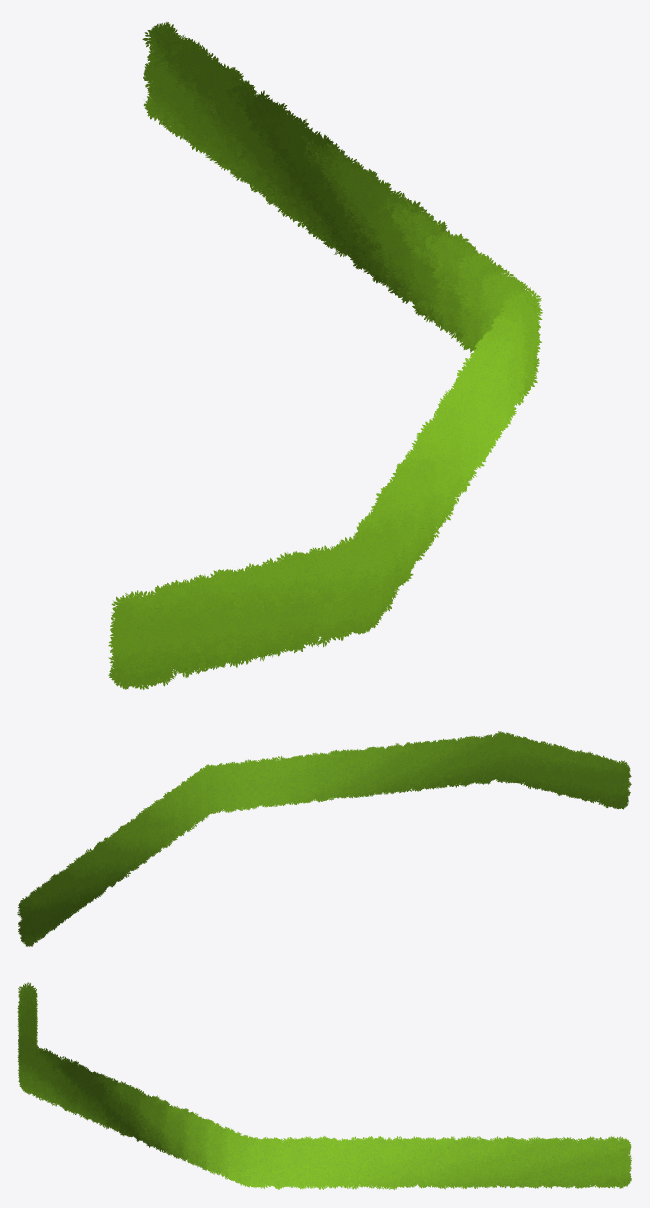
Rendered from HedgeRightBigTest 1.fbx.
3 renders of one model, top to bottom at view 1: azimuth 30°, elevation 25°; view 2: azimuth 150°, elevation 25°; view 3: azimuth 270°, elevation 25°, orthographic. The views are drawn at different scales.
Parts seen in each view (by area): view 1: Plane.001; view 2: Plane.001; view 3: Plane.001.
Part boxes in pixels (x1,y1,x2,y2): Plane.001: [108, 22, 542, 689]; Plane.001: [17, 731, 631, 946]; Plane.001: [17, 982, 631, 1189].
Size of the model in its own units: 2666 by 426 by 4234.
